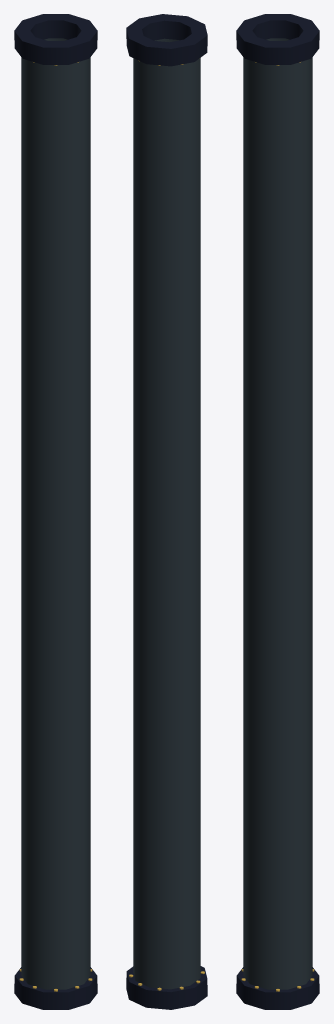
The model's file is P_Straight_07.obj.
The picture shows the model from 3 angles, left to right: view 1: azimuth 90°, elevation 25°; view 2: azimuth 150°, elevation 25°; view 3: azimuth 270°, elevation 25°; orthographic projection.
Parts seen in each view (by area): view 1: P_Straight_07_Rohr, P_Straight_07_Verbindung; view 2: P_Straight_07_Rohr, P_Straight_07_Verbindung; view 3: P_Straight_07_Rohr, P_Straight_07_Verbindung.
Part boxes in pixels (<box>): P_Straight_07_Rohr: <box>21,38,90,989</box>; P_Straight_07_Verbindung: <box>14,14,97,1009</box>; P_Straight_07_Rohr: <box>133,38,200,989</box>; P_Straight_07_Verbindung: <box>126,14,207,1009</box>; P_Straight_07_Rohr: <box>243,38,312,989</box>; P_Straight_07_Verbindung: <box>236,14,319,1009</box>.
Size of the model in its own units: 0.6204 by 8.3 by 0.6523.
